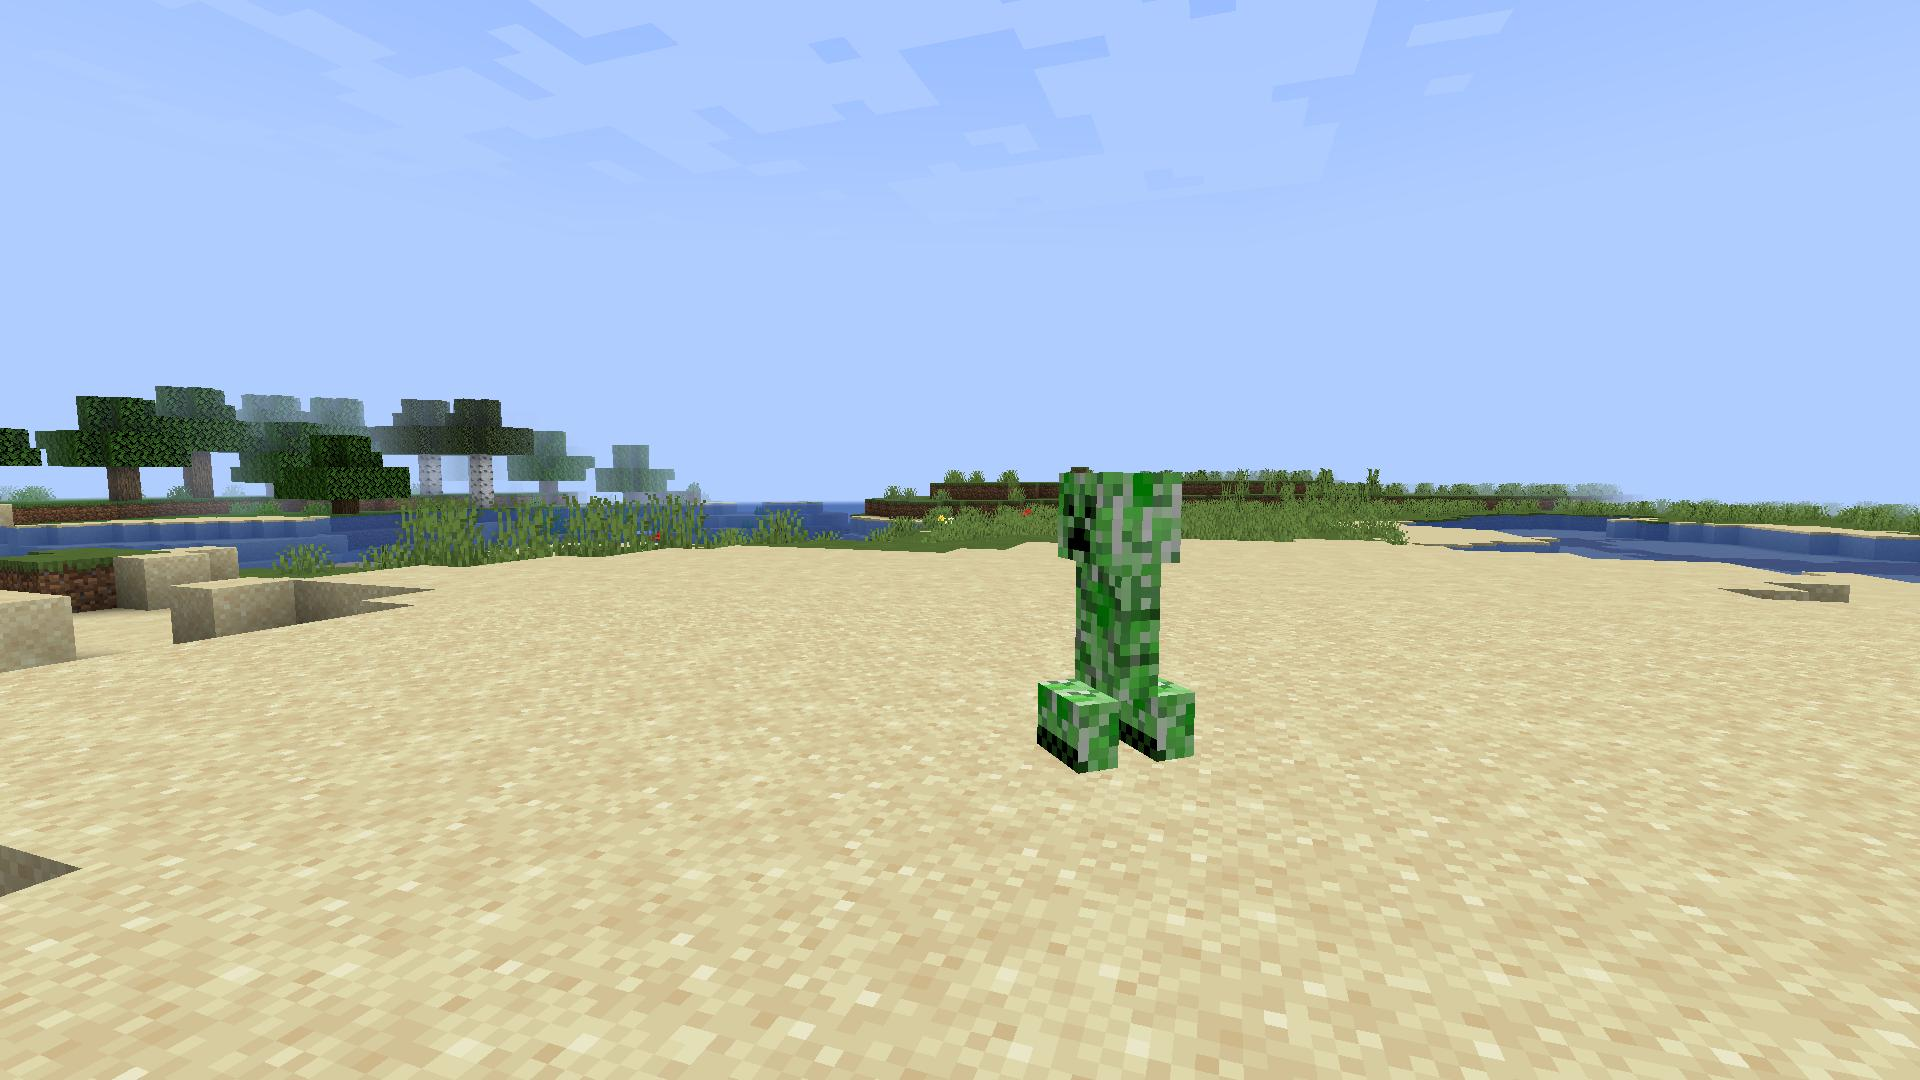creeper: (1029, 460, 1208, 782)
